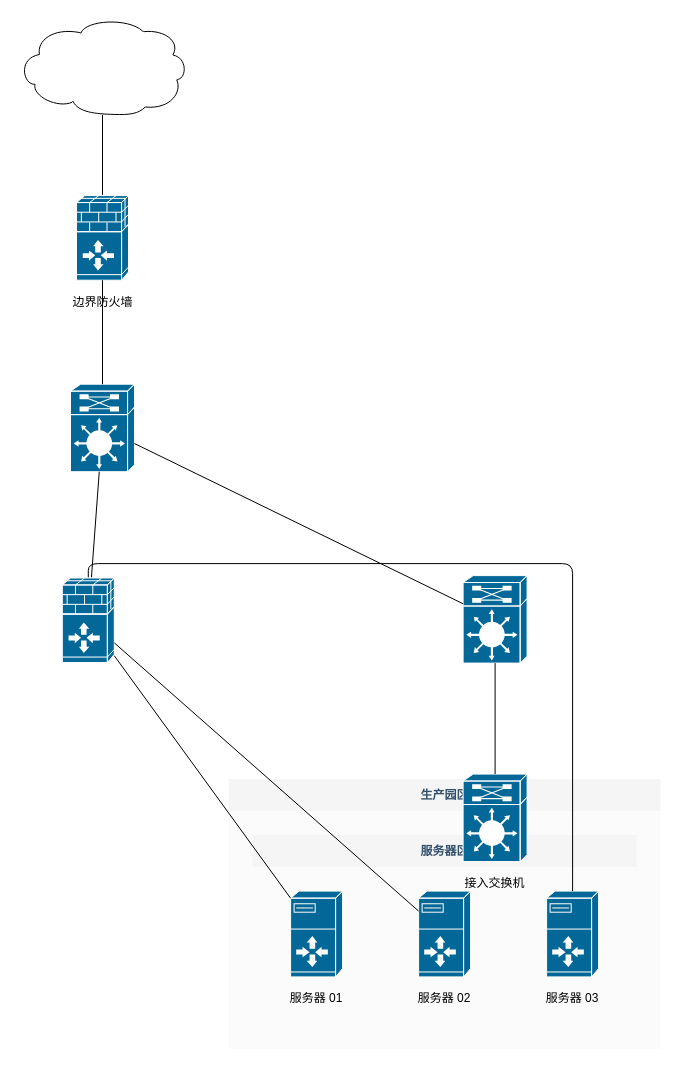
The diagram is 678 pixels wide and 1066 high, and some of its shapes have lost their labels. Here are the shapes that lost their labels. From the top down, the centre of each, then its label:
At (x=102, y=65): "公网".
At (x=102, y=427): "核心交换机".
At (x=87, y=619): "服务器区防火墙".
At (x=494, y=619): "汇聚交换机".
